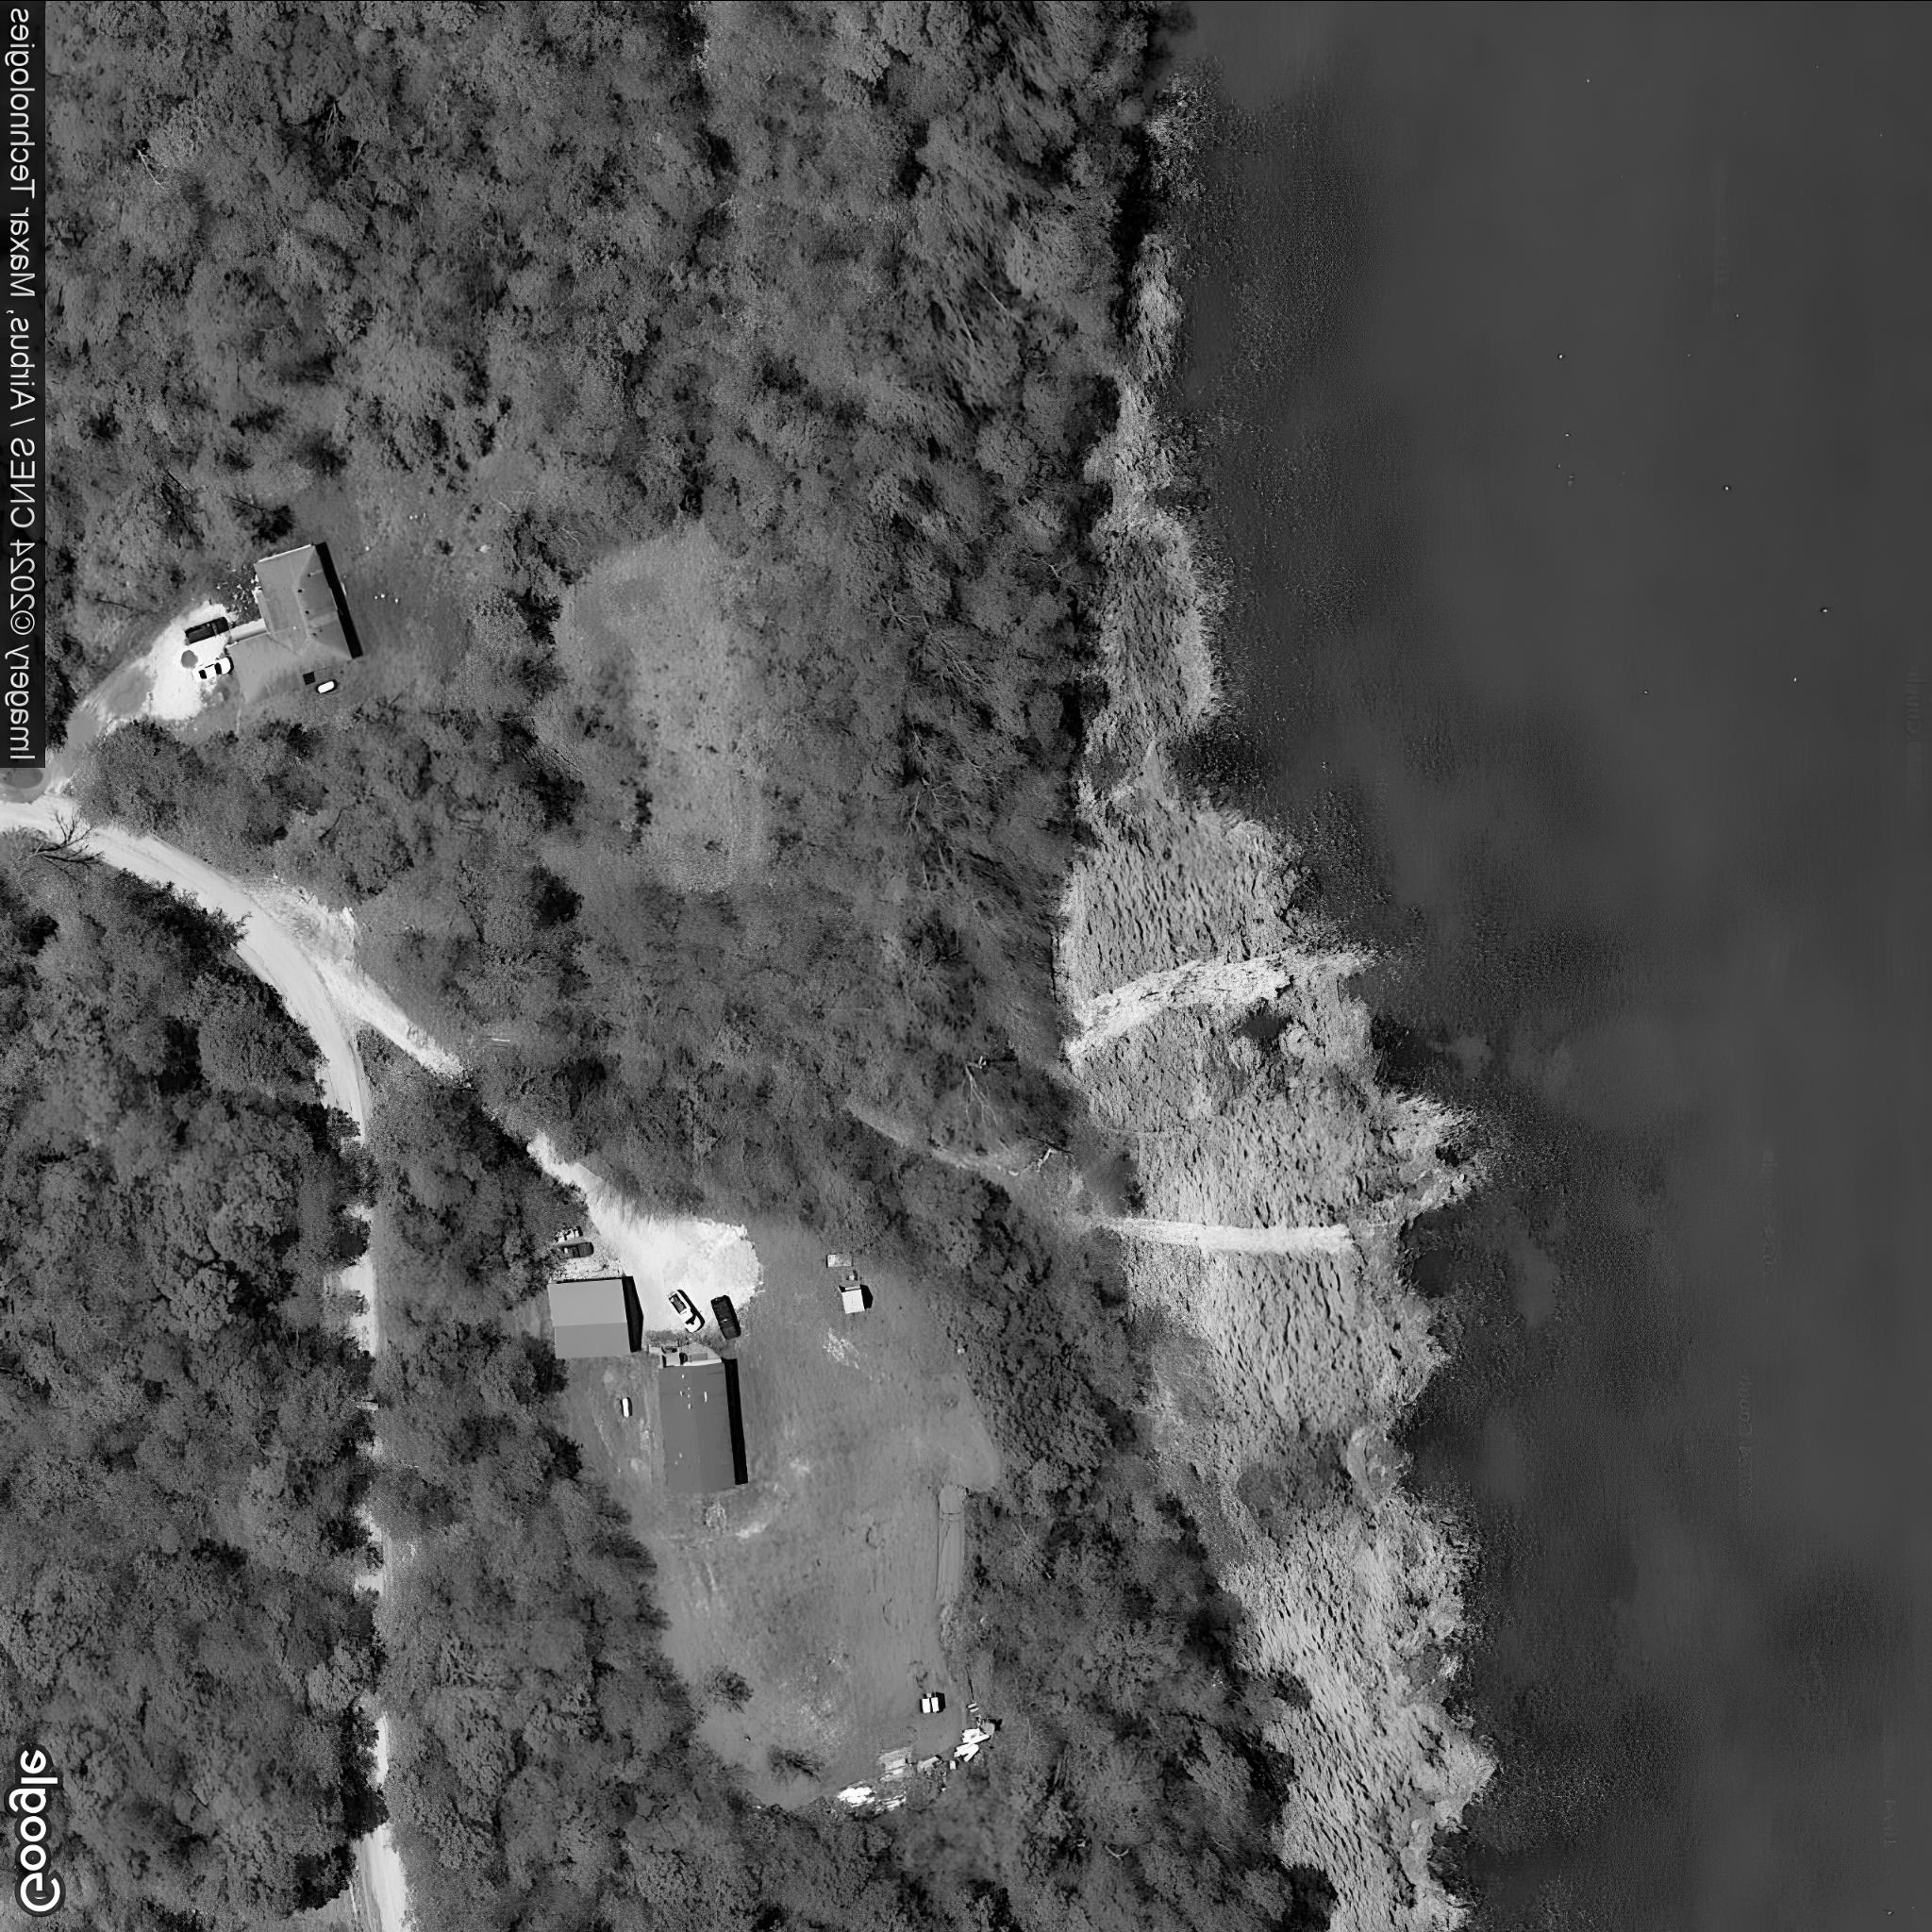Garage: (547, 1276, 632, 1359)
House: (223, 540, 356, 706), (658, 1357, 738, 1495)
Propane: (315, 676, 341, 695), (617, 1396, 632, 1419)
